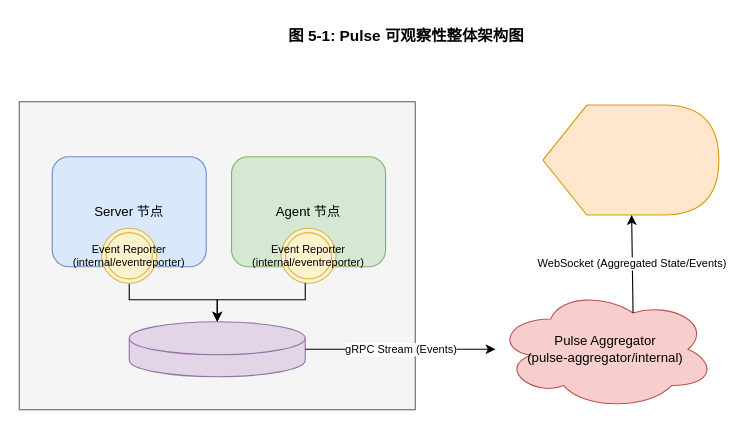
Some shapes in this 746 by 429 pixel diagram are drawn without their labels. Each missing label, with the box of its shape:
gRPC Client (grpc_client.go): (128, 321, 305, 377)
Pulse 集群节点: (18, 101, 415, 410)
前端UI (ui/src): (542, 104, 719, 215)
